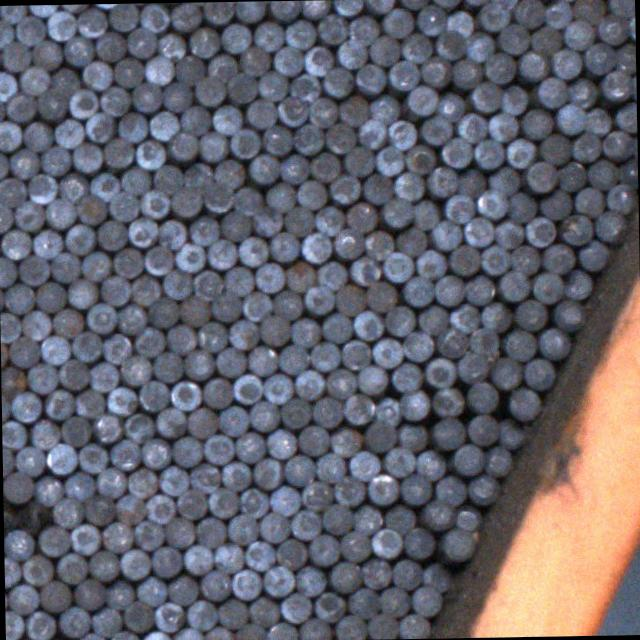tool: (99, 562, 145, 614), (501, 328, 538, 362), (360, 419, 398, 452), (441, 526, 476, 560), (536, 326, 572, 359), (512, 298, 549, 330), (346, 586, 380, 620), (520, 106, 554, 140), (516, 48, 550, 82), (23, 607, 58, 640), (324, 424, 360, 456), (594, 210, 630, 242), (195, 514, 228, 548), (306, 532, 339, 566), (346, 448, 379, 482), (168, 378, 202, 411), (186, 212, 220, 245), (283, 258, 316, 292), (218, 209, 252, 242), (212, 102, 246, 135), (244, 96, 278, 129), (336, 93, 369, 127), (332, 282, 367, 314), (537, 188, 572, 220), (69, 140, 104, 172), (528, 22, 563, 54), (540, 242, 576, 273), (379, 196, 416, 226), (124, 464, 157, 497), (324, 366, 357, 399), (38, 579, 72, 611), (200, 568, 232, 602), (119, 546, 151, 580), (100, 520, 134, 552), (163, 514, 195, 548), (368, 527, 402, 559), (338, 530, 372, 562), (288, 508, 322, 540), (320, 502, 352, 536), (282, 453, 316, 485), (494, 415, 526, 449), (168, 185, 202, 217), (462, 272, 496, 304), (530, 270, 564, 302), (148, 109, 182, 141), (98, 84, 132, 116), (256, 69, 290, 101), (537, 133, 571, 165), (288, 72, 322, 104), (336, 36, 368, 70), (502, 136, 537, 167), (570, 128, 601, 163), (312, 590, 345, 622), (411, 583, 443, 616), (150, 544, 183, 576), (144, 491, 176, 524), (234, 430, 266, 463), (28, 418, 61, 450), (293, 564, 326, 596), (268, 483, 300, 516), (433, 474, 466, 506), (414, 447, 446, 480), (248, 398, 280, 431), (309, 396, 342, 428), (429, 385, 462, 417), (507, 387, 540, 419), (105, 384, 138, 416), (226, 318, 259, 350), (51, 306, 84, 338), (63, 222, 96, 254), (240, 288, 272, 321), (299, 232, 332, 264), (313, 202, 345, 235), (326, 172, 359, 204), (576, 238, 609, 270), (560, 212, 592, 245), (215, 158, 248, 190), (260, 124, 293, 156), (160, 80, 193, 112), (49, 63, 82, 95), (221, 20, 253, 53), (309, 150, 342, 182), (342, 145, 374, 178), (483, 52, 516, 84), (584, 41, 616, 74), (381, 6, 414, 38), (366, 473, 400, 504), (396, 421, 430, 452), (456, 351, 490, 382), (434, 326, 468, 357), (552, 298, 586, 329), (66, 87, 100, 118), (418, 114, 452, 145), (90, 606, 122, 638), (122, 600, 154, 632), (232, 567, 264, 599), (20, 553, 52, 585), (212, 542, 244, 574), (114, 492, 146, 524), (156, 462, 188, 494), (108, 437, 140, 469), (171, 434, 203, 466), (328, 561, 360, 593), (274, 537, 306, 569), (258, 511, 290, 543), (421, 498, 453, 530), (300, 479, 332, 511), (465, 380, 497, 412), (58, 358, 90, 390), (182, 348, 214, 380), (6, 336, 38, 368), (178, 294, 210, 326), (34, 278, 66, 310), (128, 273, 160, 305), (192, 268, 224, 300), (490, 356, 522, 388), (401, 330, 433, 362), (258, 314, 290, 346), (480, 300, 512, 332), (270, 288, 302, 320), (282, 204, 314, 236), (360, 170, 392, 202), (604, 182, 636, 214), (248, 153, 280, 185), (197, 130, 229, 162), (143, 53, 175, 85), (94, 30, 126, 62), (125, 26, 157, 58), (188, 24, 220, 56), (440, 136, 472, 168), (292, 122, 324, 154), (324, 122, 356, 154), (354, 116, 386, 148), (554, 102, 586, 134), (278, 94, 310, 126), (434, 88, 466, 120), (536, 76, 568, 108), (72, 577, 103, 610), (207, 486, 240, 517), (188, 462, 221, 493), (185, 406, 218, 437), (360, 556, 391, 589), (467, 472, 500, 503), (342, 392, 375, 423), (9, 391, 42, 422), (88, 359, 119, 392), (65, 277, 98, 308), (42, 197, 75, 228), (308, 341, 341, 372), (394, 224, 427, 255), (120, 163, 151, 196), (4, 91, 37, 122), (192, 75, 225, 106), (175, 54, 208, 85), (348, 13, 381, 44), (415, 3, 448, 34), (278, 591, 312, 621), (264, 564, 294, 598), (332, 474, 366, 504), (42, 388, 76, 418), (116, 300, 146, 334), (110, 247, 144, 277), (522, 358, 556, 388), (468, 328, 502, 358), (447, 302, 481, 332), (302, 284, 336, 314), (10, 146, 40, 180), (62, 34, 96, 64), (58, 605, 90, 636), (184, 598, 216, 629), (215, 598, 247, 629), (379, 584, 410, 616), (56, 552, 87, 584), (88, 549, 119, 581), (70, 522, 101, 554), (52, 496, 84, 527), (176, 488, 207, 520), (78, 442, 109, 474), (390, 558, 421, 590), (403, 526, 434, 558), (314, 451, 346, 482), (432, 417, 464, 448), (150, 351, 182, 382), (214, 345, 245, 377), (85, 302, 116, 334), (223, 264, 254, 296), (0, 228, 32, 259), (31, 226, 62, 258), (74, 193, 106, 224), (138, 187, 170, 218), (262, 371, 294, 402), (289, 316, 320, 348), (320, 311, 352, 342), (402, 275, 434, 306), (253, 261, 284, 293), (266, 230, 298, 261), (505, 190, 536, 222), (152, 164, 184, 195), (84, 111, 116, 142), (115, 111, 147, 142), (180, 103, 212, 134), (111, 56, 143, 87), (31, 39, 63, 70), (252, 20, 284, 51), (170, 2, 202, 33), (278, 153, 310, 184), (404, 84, 436, 115), (470, 80, 501, 112), (354, 63, 386, 94), (419, 55, 450, 87), (369, 34, 400, 66), (563, 18, 594, 50), (598, 13, 630, 44), (284, 17, 316, 48), (478, 0, 510, 31), (248, 593, 278, 626), (4, 527, 34, 560), (226, 513, 259, 543), (13, 445, 46, 475), (382, 446, 415, 476), (483, 444, 513, 477), (164, 324, 197, 354), (196, 319, 226, 352), (16, 254, 49, 284), (173, 242, 206, 272), (96, 218, 129, 248), (106, 190, 139, 220), (422, 356, 455, 386), (365, 280, 398, 310), (382, 250, 415, 280), (456, 165, 486, 198), (322, 66, 355, 96), (498, 22, 528, 55), (302, 46, 336, 75), (61, 415, 92, 446), (243, 540, 274, 571), (296, 424, 327, 455), (143, 243, 174, 274), (0, 40, 31, 71), (154, 600, 184, 632), (166, 572, 196, 604), (182, 542, 212, 574), (37, 524, 69, 554), (2, 471, 34, 501), (34, 474, 64, 506), (46, 441, 76, 473), (218, 404, 248, 436), (382, 502, 414, 532), (452, 502, 484, 532), (399, 474, 431, 504), (454, 442, 484, 474), (467, 412, 497, 444), (278, 397, 310, 427), (202, 376, 232, 408), (232, 372, 262, 404), (100, 332, 132, 362), (133, 326, 165, 356), (3, 282, 35, 312), (98, 274, 130, 304), (202, 182, 234, 212), (246, 344, 276, 376), (276, 344, 308, 374), (352, 308, 384, 338), (384, 305, 416, 335), (416, 303, 448, 333), (415, 248, 447, 278), (524, 214, 556, 244), (344, 202, 376, 232), (411, 196, 441, 228), (442, 193, 474, 223), (475, 188, 507, 218), (556, 160, 586, 192), (26, 174, 58, 204), (88, 170, 120, 200), (102, 136, 134, 166), (134, 139, 166, 169), (168, 128, 198, 160), (229, 128, 261, 158), (20, 120, 52, 150), (52, 118, 84, 148), (34, 89, 66, 119), (227, 70, 257, 102), (46, 8, 76, 40), (76, 7, 108, 37), (456, 111, 486, 143), (486, 112, 518, 142), (369, 91, 399, 123), (566, 76, 596, 108), (602, 70, 632, 102), (450, 58, 482, 88), (550, 48, 582, 78), (272, 44, 302, 76), (400, 32, 432, 62), (434, 28, 466, 58), (465, 30, 497, 60), (316, 13, 348, 43), (15, 15, 48, 44), (511, 0, 544, 29), (7, 582, 38, 612), (133, 520, 164, 550), (84, 494, 115, 524), (64, 470, 95, 500), (140, 437, 170, 468), (203, 432, 233, 463), (156, 406, 186, 437), (352, 503, 382, 534), (238, 487, 268, 518), (27, 362, 58, 392), (120, 352, 150, 383), (70, 330, 100, 361), (20, 309, 50, 340), (147, 297, 178, 327), (162, 268, 193, 298), (294, 369, 324, 400), (357, 363, 387, 394), (391, 360, 422, 390), (340, 338, 370, 369), (434, 273, 464, 304), (499, 269, 529, 300), (448, 244, 479, 274), (238, 235, 268, 266), (362, 228, 393, 258), (488, 164, 519, 194), (586, 158, 617, 188), (208, 52, 239, 82), (239, 44, 270, 74), (155, 30, 186, 60), (601, 130, 632, 160), (308, 95, 338, 126), (92, 412, 124, 441), (316, 259, 348, 288), (108, 3, 140, 32), (136, 575, 166, 605), (220, 460, 250, 490), (124, 410, 154, 440), (252, 457, 282, 487), (266, 428, 296, 458), (399, 389, 429, 419), (138, 380, 168, 410), (40, 334, 70, 364), (210, 290, 240, 320), (14, 198, 44, 228), (252, 206, 282, 236), (233, 184, 263, 214), (264, 180, 294, 210), (296, 180, 326, 210), (526, 160, 556, 190), (184, 160, 214, 190), (40, 144, 70, 174), (130, 81, 160, 111), (20, 64, 50, 94), (82, 60, 112, 90), (404, 144, 434, 174), (386, 118, 416, 148), (206, 238, 237, 267), (371, 337, 402, 366), (333, 228, 364, 257), (431, 220, 462, 249), (573, 186, 604, 215), (372, 394, 400, 426), (79, 250, 111, 278), (349, 256, 381, 284), (57, 172, 89, 200), (388, 60, 420, 88), (1, 363, 27, 397), (96, 466, 125, 496), (422, 560, 451, 590), (464, 216, 494, 245), (494, 218, 524, 247), (562, 268, 592, 297), (140, 2, 169, 32), (479, 244, 510, 272), (334, 613, 366, 640), (399, 612, 431, 639), (298, 614, 331, 640), (375, 147, 404, 176), (368, 612, 398, 640), (511, 244, 539, 274), (426, 166, 456, 194), (584, 104, 612, 134), (500, 83, 528, 113), (446, 8, 474, 38), (392, 171, 423, 198), (571, 0, 605, 24), (50, 252, 79, 280), (158, 218, 186, 247), (473, 139, 502, 167), (542, 0, 571, 28), (76, 388, 104, 416), (128, 217, 157, 244), (613, 100, 637, 132), (612, 41, 636, 73), (1, 419, 26, 448), (203, 1, 234, 24), (616, 156, 638, 188), (0, 176, 25, 204), (268, 0, 299, 22), (235, 1, 267, 22), (0, 120, 21, 151), (5, 610, 25, 640), (0, 311, 20, 341), (234, 622, 267, 640), (267, 621, 297, 640), (298, 0, 330, 17), (4, 556, 21, 586), (333, 0, 364, 16), (0, 5, 26, 24), (203, 624, 232, 640), (0, 257, 16, 286), (0, 70, 16, 99), (363, 0, 393, 14), (608, 0, 634, 16), (0, 19, 14, 48), (0, 199, 13, 230), (2, 446, 15, 476), (173, 627, 202, 640), (26, 5, 57, 16), (109, 629, 139, 640), (0, 150, 9, 180)
tool_b: (3, 484, 64, 542), (30, 621, 88, 640)
void: (482, 375, 524, 423)
